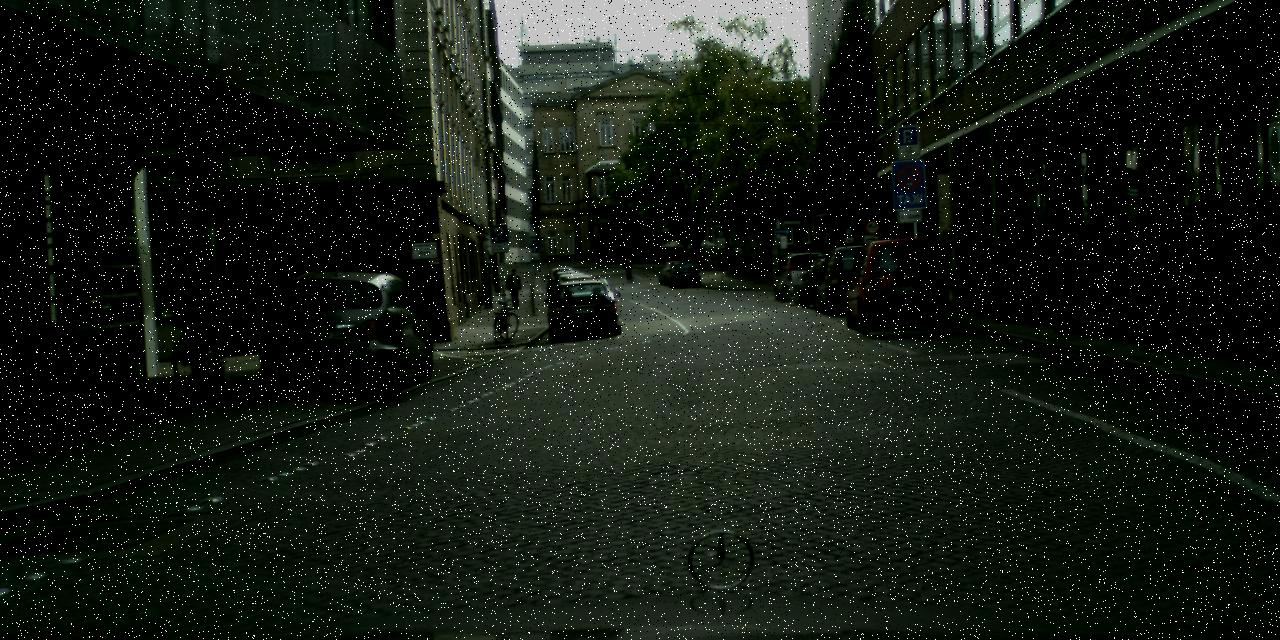ped: (178, 267, 222, 374), (506, 269, 522, 308), (624, 257, 632, 276)
